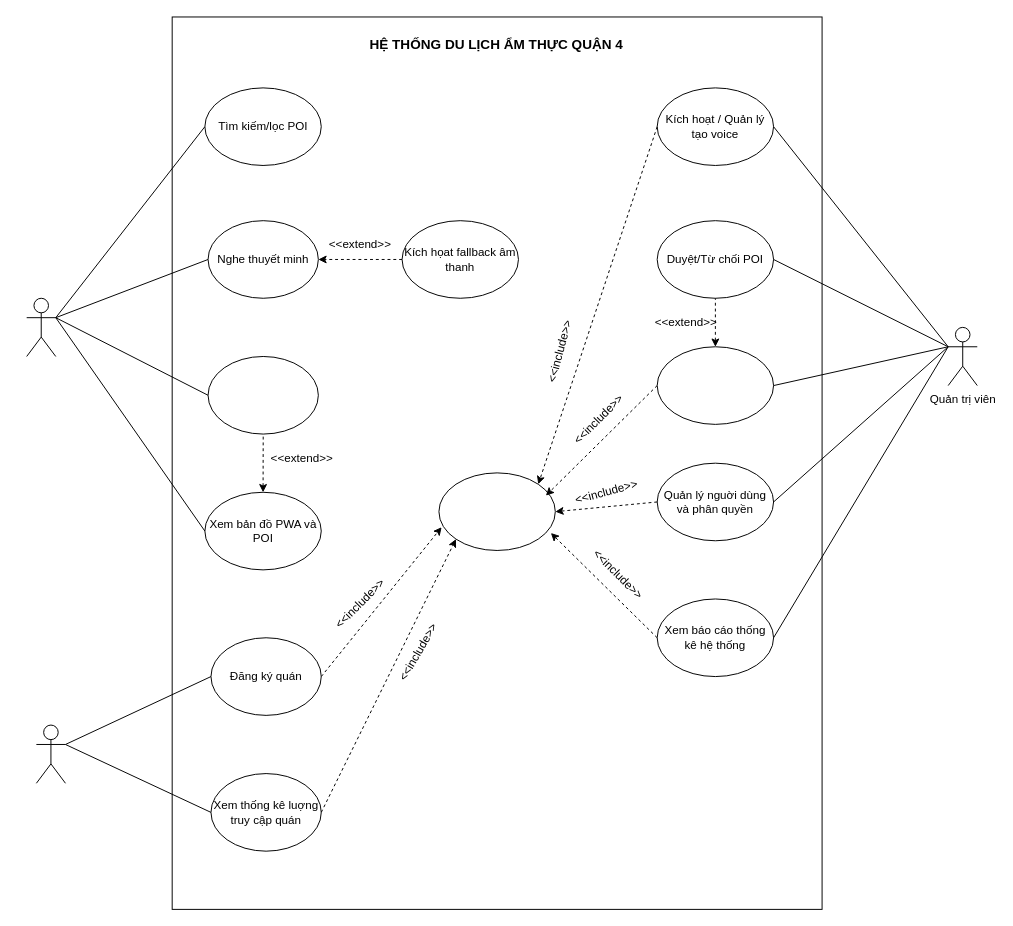
Image size: 1013x926. Some labels were removed from this diagram. The centre of each missing label's shape, as x and y in pixels:
"Chủ Quán" belongs at point (50, 753).
"Du khách" belongs at point (41, 326).
"Quản lý POI và Media" belongs at point (715, 385).
"Sử dụng chế độ offline" belongs at point (262, 395).
"Đăng nhập" belongs at point (496, 511).
